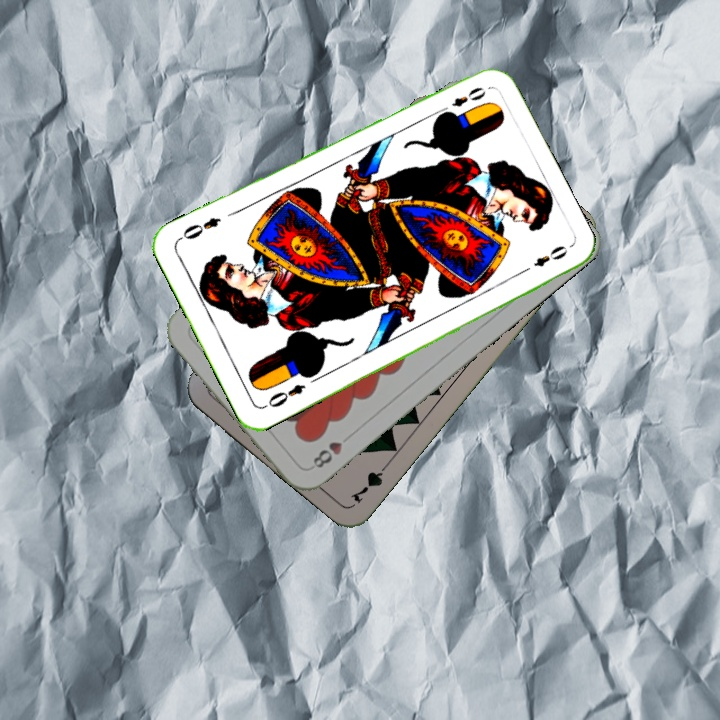EO: (434, 83, 489, 117), (259, 380, 309, 411)
G7: (346, 456, 393, 506)
H8: (308, 437, 345, 471)
